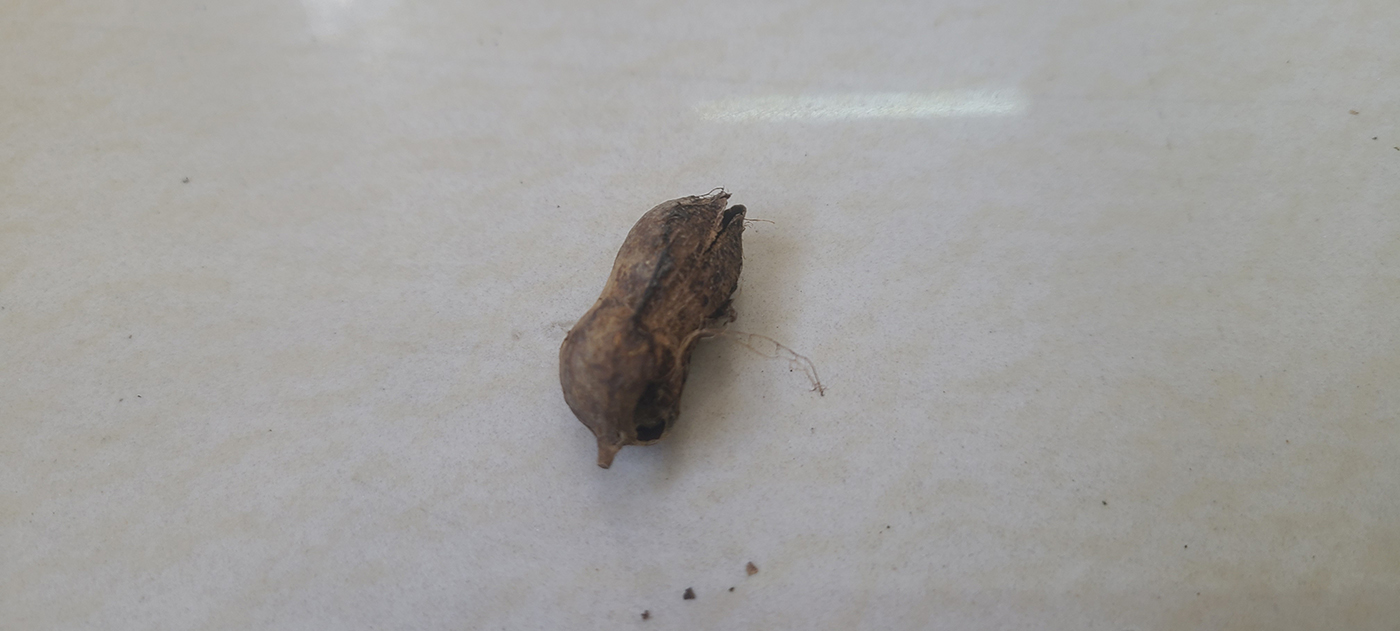l: (561, 192, 751, 447)
